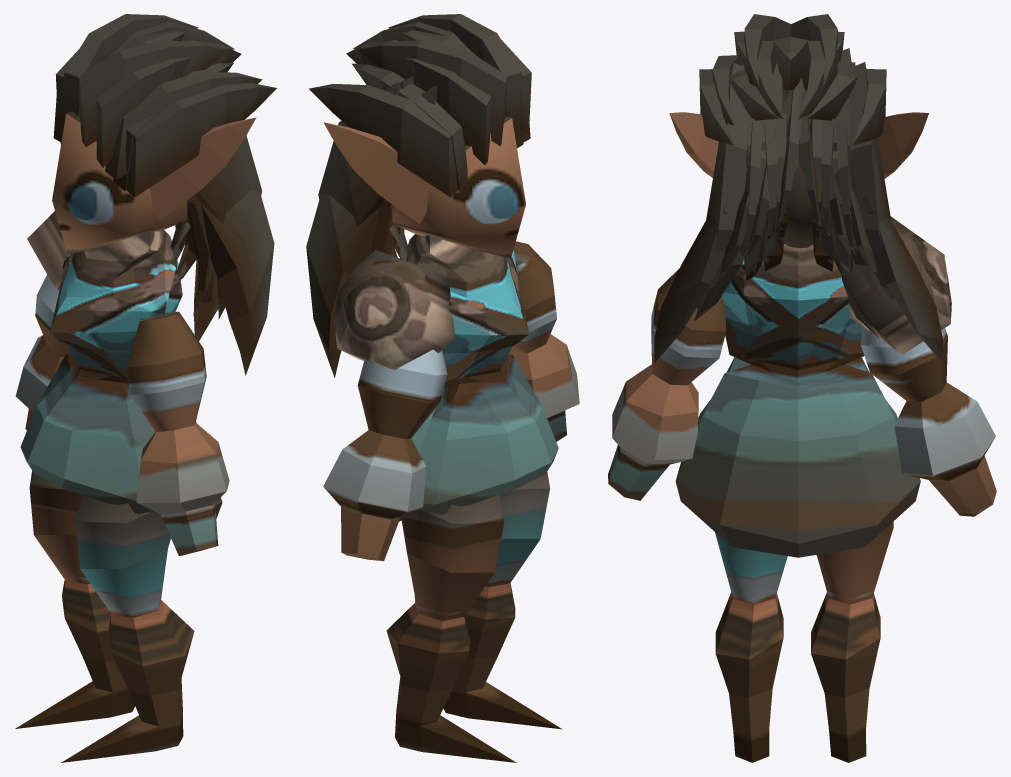
Rendered from char.fbx.
3 renders of one model, left to right at view 1: azimuth 30°, elevation 25°; view 2: azimuth 150°, elevation 25°; view 3: azimuth 270°, elevation 25°, orthographic. The views are drawn at different scales.
Parts seen in each view (by area): view 1: Object016; view 2: Object016; view 3: Object016.
Part boxes in pixels (box(x1,y1,x2,y2)): Object016: box(15, 14, 276, 762); Object016: box(306, 14, 579, 762); Object016: box(608, 14, 996, 762).
Bounding box in the file's own units: 2 × 2.94 × 6.07.
Materials: 1 (1 with a texture image).
